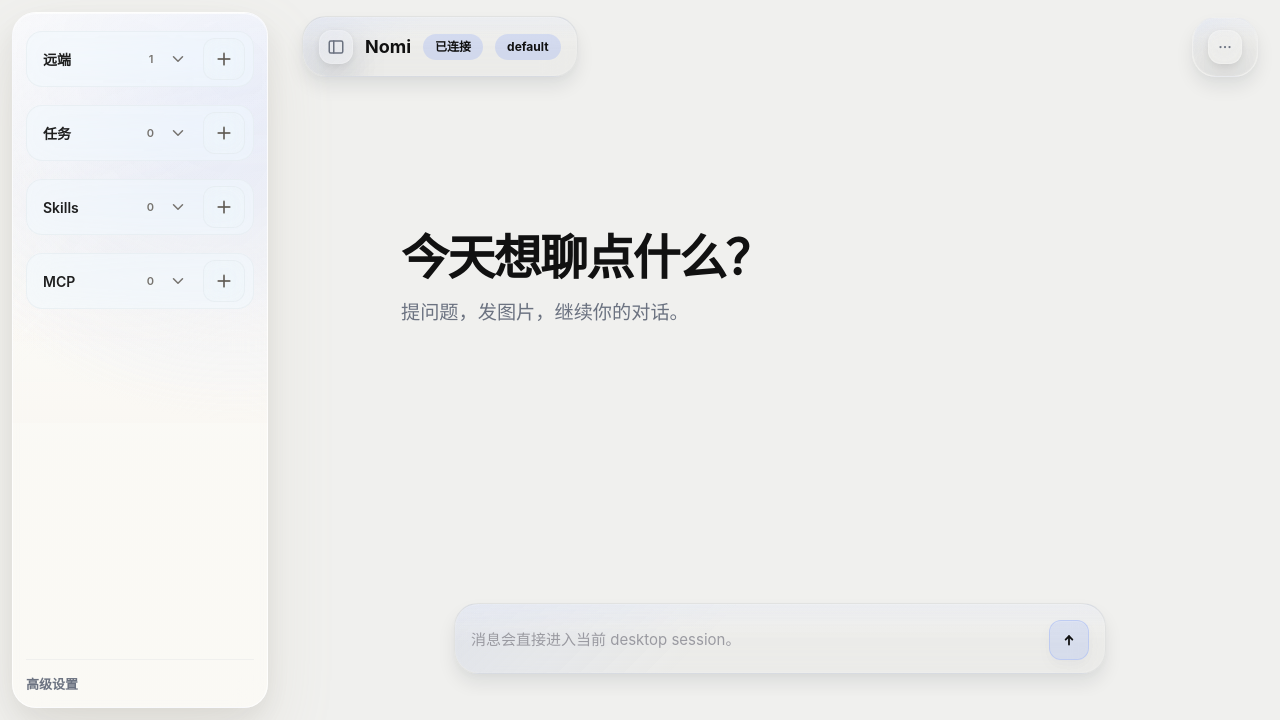
Scenario: App HTTP/SSE native session flow › creates a session and posts first turn only after user sends content
In the text box named "消息输入": [755, 640] box [471,618,1039,661], type "你好"
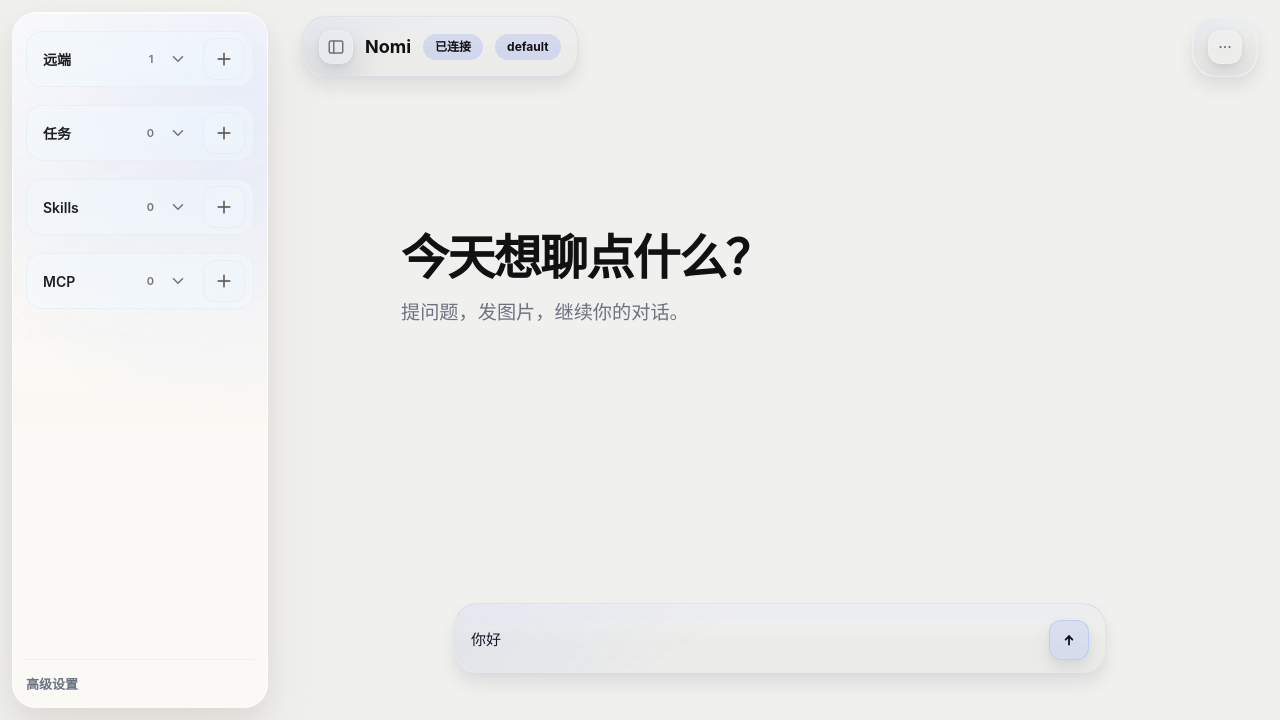
Click the button named "发送消息": [1069, 640] box [1049,620,1089,660]
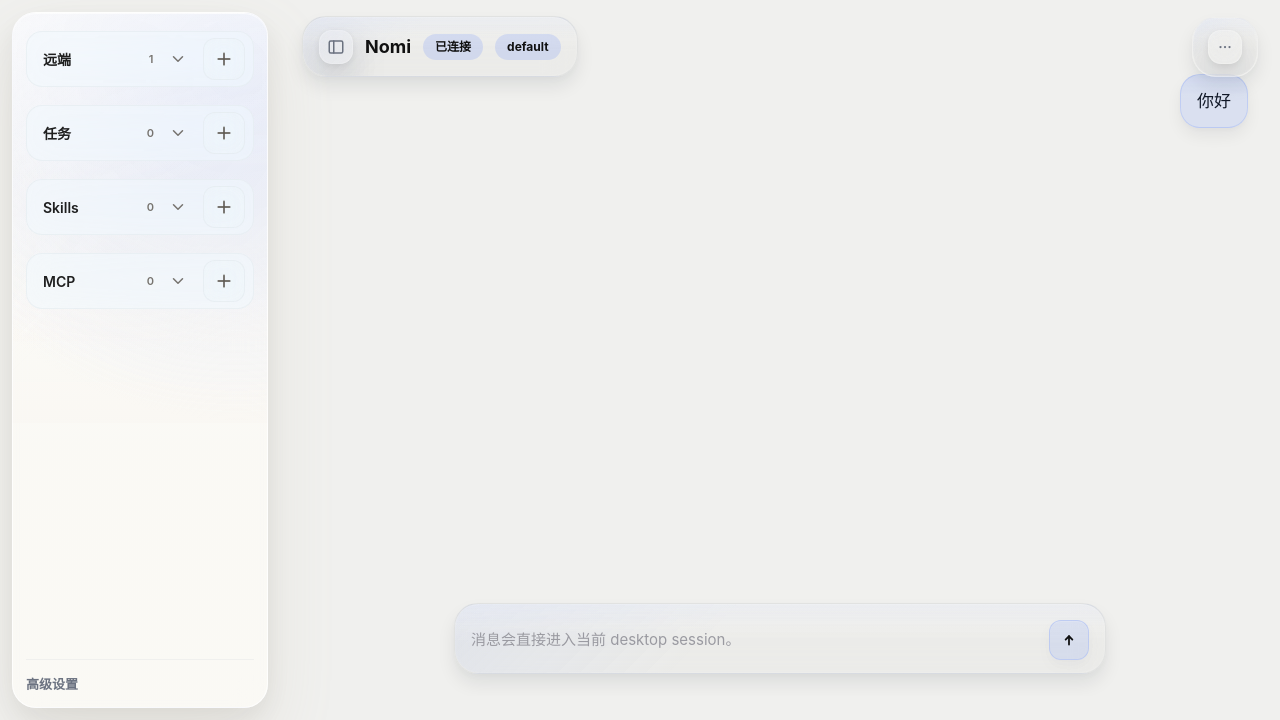
Check: the text "你好" is shown, box [1197,88,1231,114]
